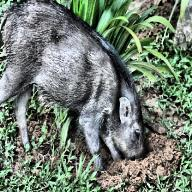boar: (0, 0, 170, 186)
